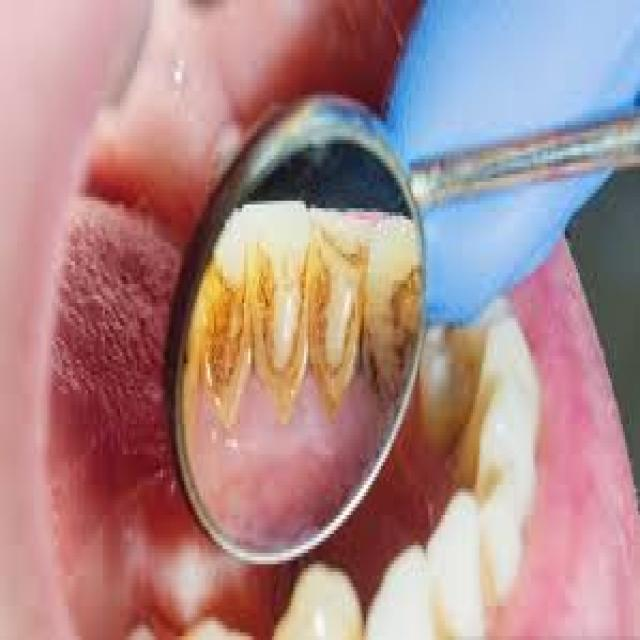calculus: (357, 222, 423, 404), (250, 247, 308, 423), (312, 228, 356, 420), (194, 270, 242, 442), (449, 315, 488, 506)
